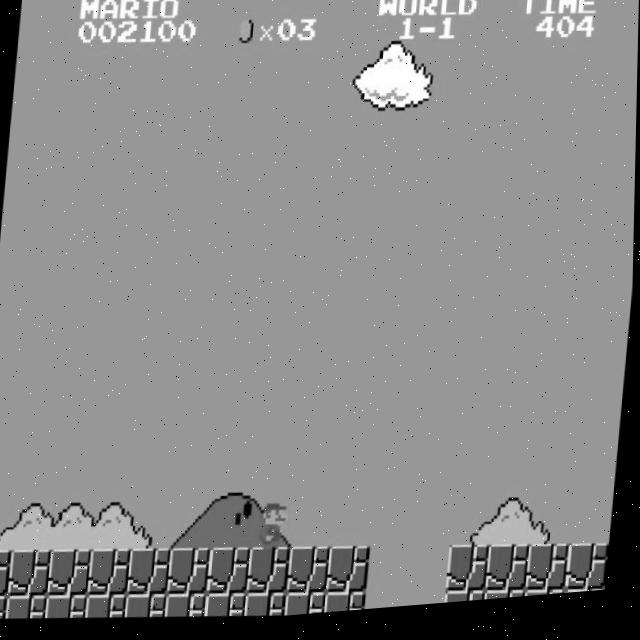11- little_mario: (249, 502, 296, 557)
17- undestructible_block: (9, 547, 54, 599), (49, 547, 94, 599), (89, 548, 134, 600), (128, 548, 173, 600), (168, 548, 213, 600), (208, 548, 253, 600), (447, 550, 492, 602), (487, 550, 532, 602), (527, 550, 572, 602), (248, 549, 293, 600), (288, 549, 333, 600), (566, 550, 611, 601), (328, 549, 372, 601), (126, 593, 170, 622), (47, 593, 90, 622), (87, 593, 130, 622), (166, 594, 209, 623), (206, 594, 249, 623), (246, 594, 289, 623), (7, 593, 50, 621), (286, 594, 329, 621), (326, 595, 369, 618), (445, 595, 488, 611), (0, 547, 13, 597), (485, 595, 528, 608), (525, 596, 568, 606), (565, 595, 607, 603), (0, 593, 9, 619)
